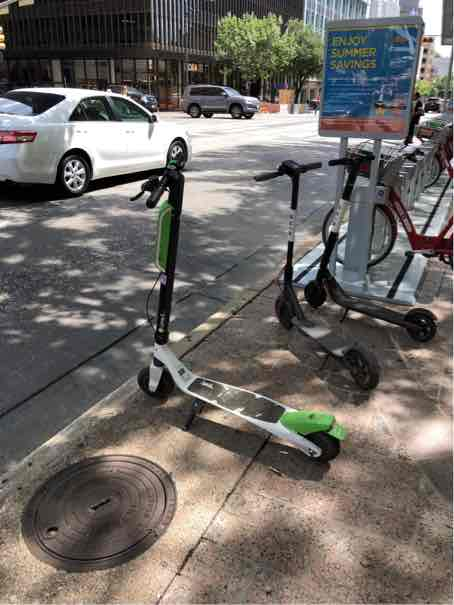scooter: (112, 143, 345, 470), (261, 153, 429, 370)
